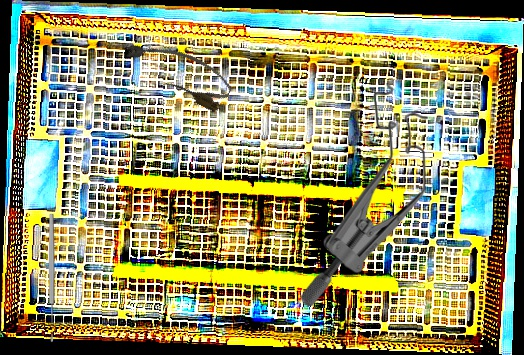Cannula: (119, 26, 237, 115)
Speculum: (299, 82, 431, 306)
Surgical Spoon: (48, 213, 55, 343)
